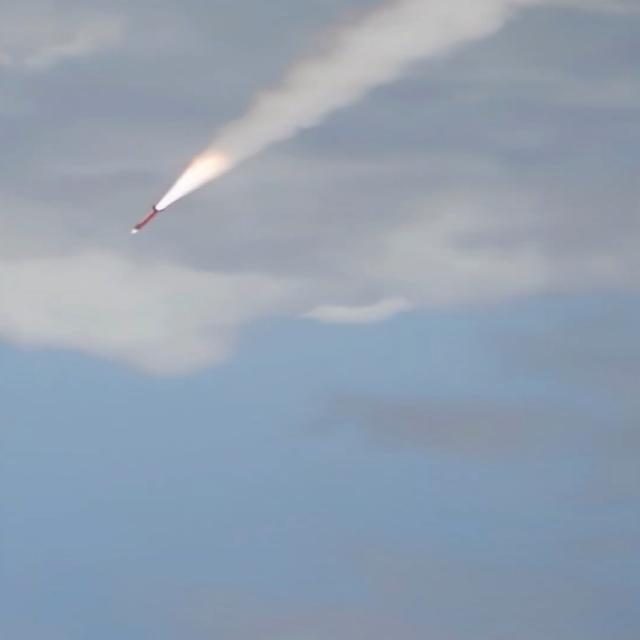missile: (132, 208, 158, 236)
